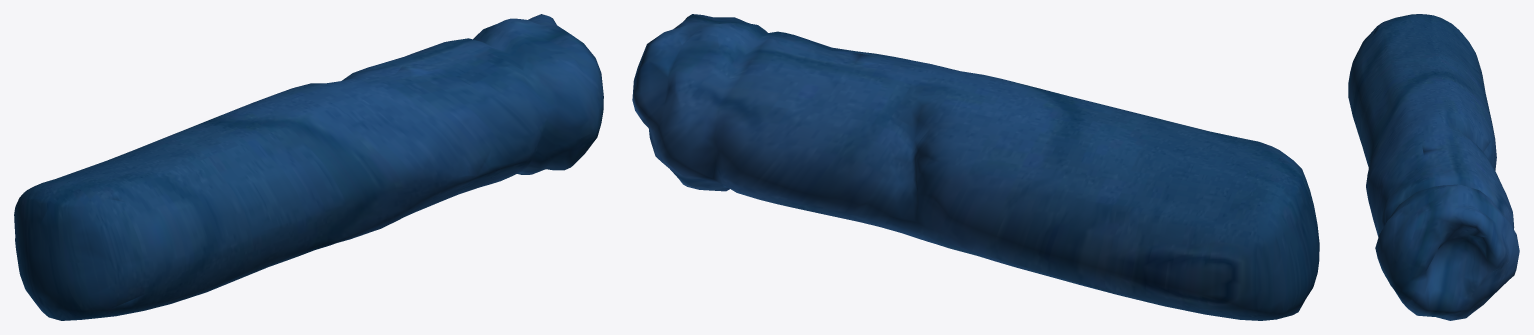
File: blueArm.glb
The picture shows the model from 3 angles, left to right: view 1: azimuth 30°, elevation 25°; view 2: azimuth 150°, elevation 25°; view 3: azimuth 270°, elevation 25°; orthographic projection. The views are drawn at different scales.
Parts seen in each view (by area): view 1: armBlue; view 2: armBlue; view 3: armBlue.
Boxes of the visible parts, box(x1,y1,x2,y2) form: armBlue: box(14, 14, 603, 320); armBlue: box(632, 14, 1319, 320); armBlue: box(1348, 14, 1519, 320).
Size of the model in its own units: 3.79 by 1.07 by 1.18.
Materials: 1 (1 with a texture image).
